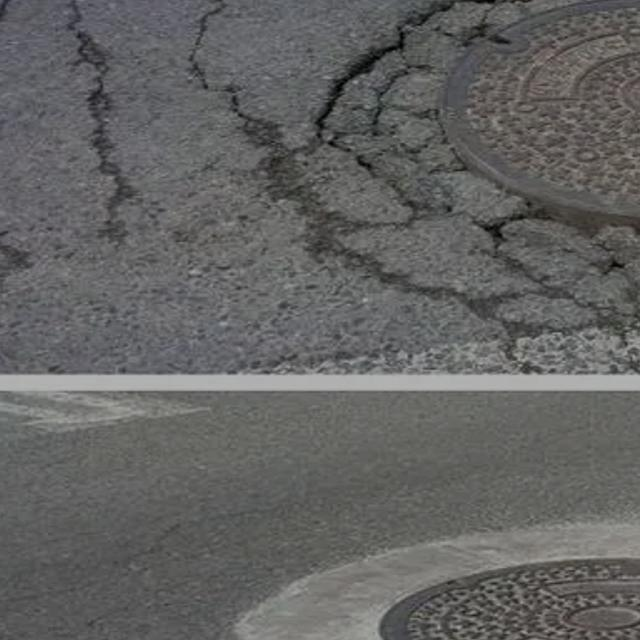circle: (272, 0, 640, 309)
